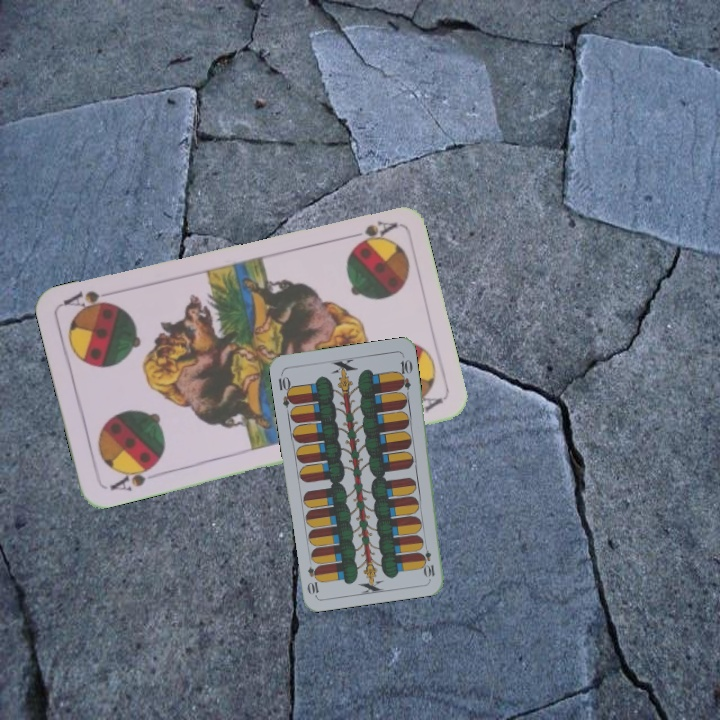E10: (274, 369, 297, 410), (419, 539, 437, 580)
SA: (106, 460, 162, 494), (341, 216, 399, 246)
